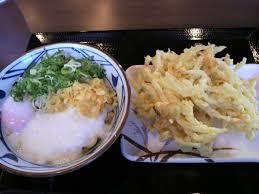kakiage: (137, 51, 255, 149)
